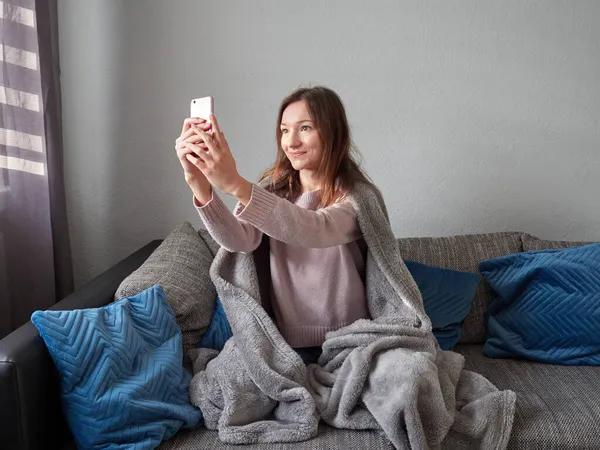blanket: (188, 158, 520, 450)
sweater: (193, 171, 371, 349)
